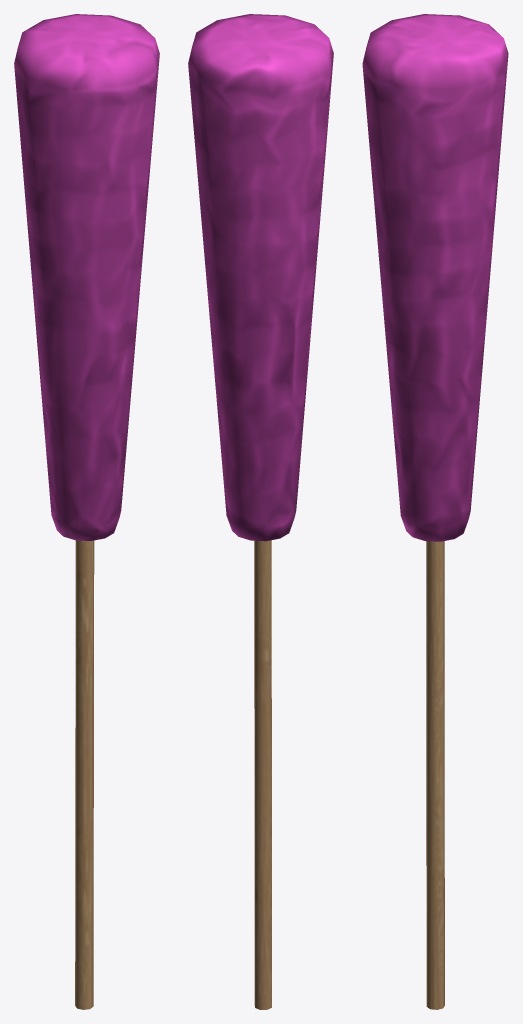
Rendered from BuffetCandy01_11.FBX.
3 renders of one model, left to right at view 1: azimuth 30°, elevation 25°; view 2: azimuth 150°, elevation 25°; view 3: azimuth 270°, elevation 25°, orthographic.
Visible parts, largest first — view 1: BuffetCandy01_11; view 2: BuffetCandy01_11; view 3: BuffetCandy01_11.
Boxes of the visible parts, box(x1,y1,x2,y2) form: BuffetCandy01_11: box(14, 14, 159, 1009); BuffetCandy01_11: box(188, 14, 333, 1009); BuffetCandy01_11: box(362, 14, 508, 1009).
Size of what is drawn, in the model's own units: 0.0377 by 0.2766 by 0.0377.
